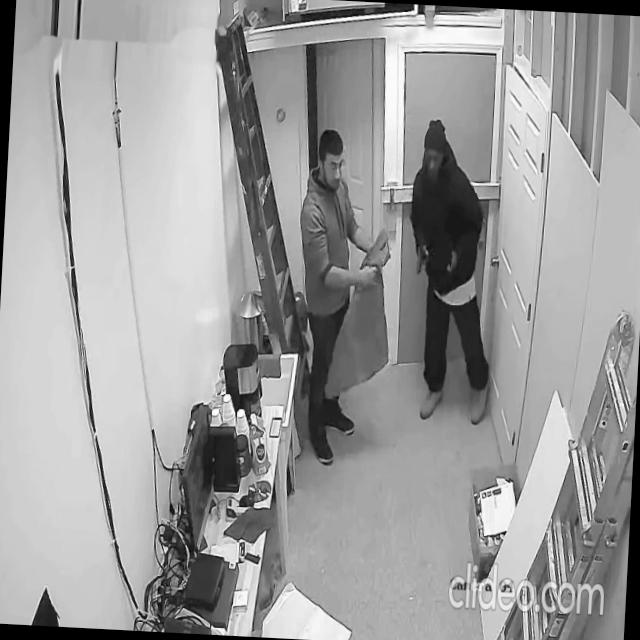gun: (415, 240, 428, 276)
person: (287, 125, 392, 466)
person with a gun: (398, 116, 506, 430)
